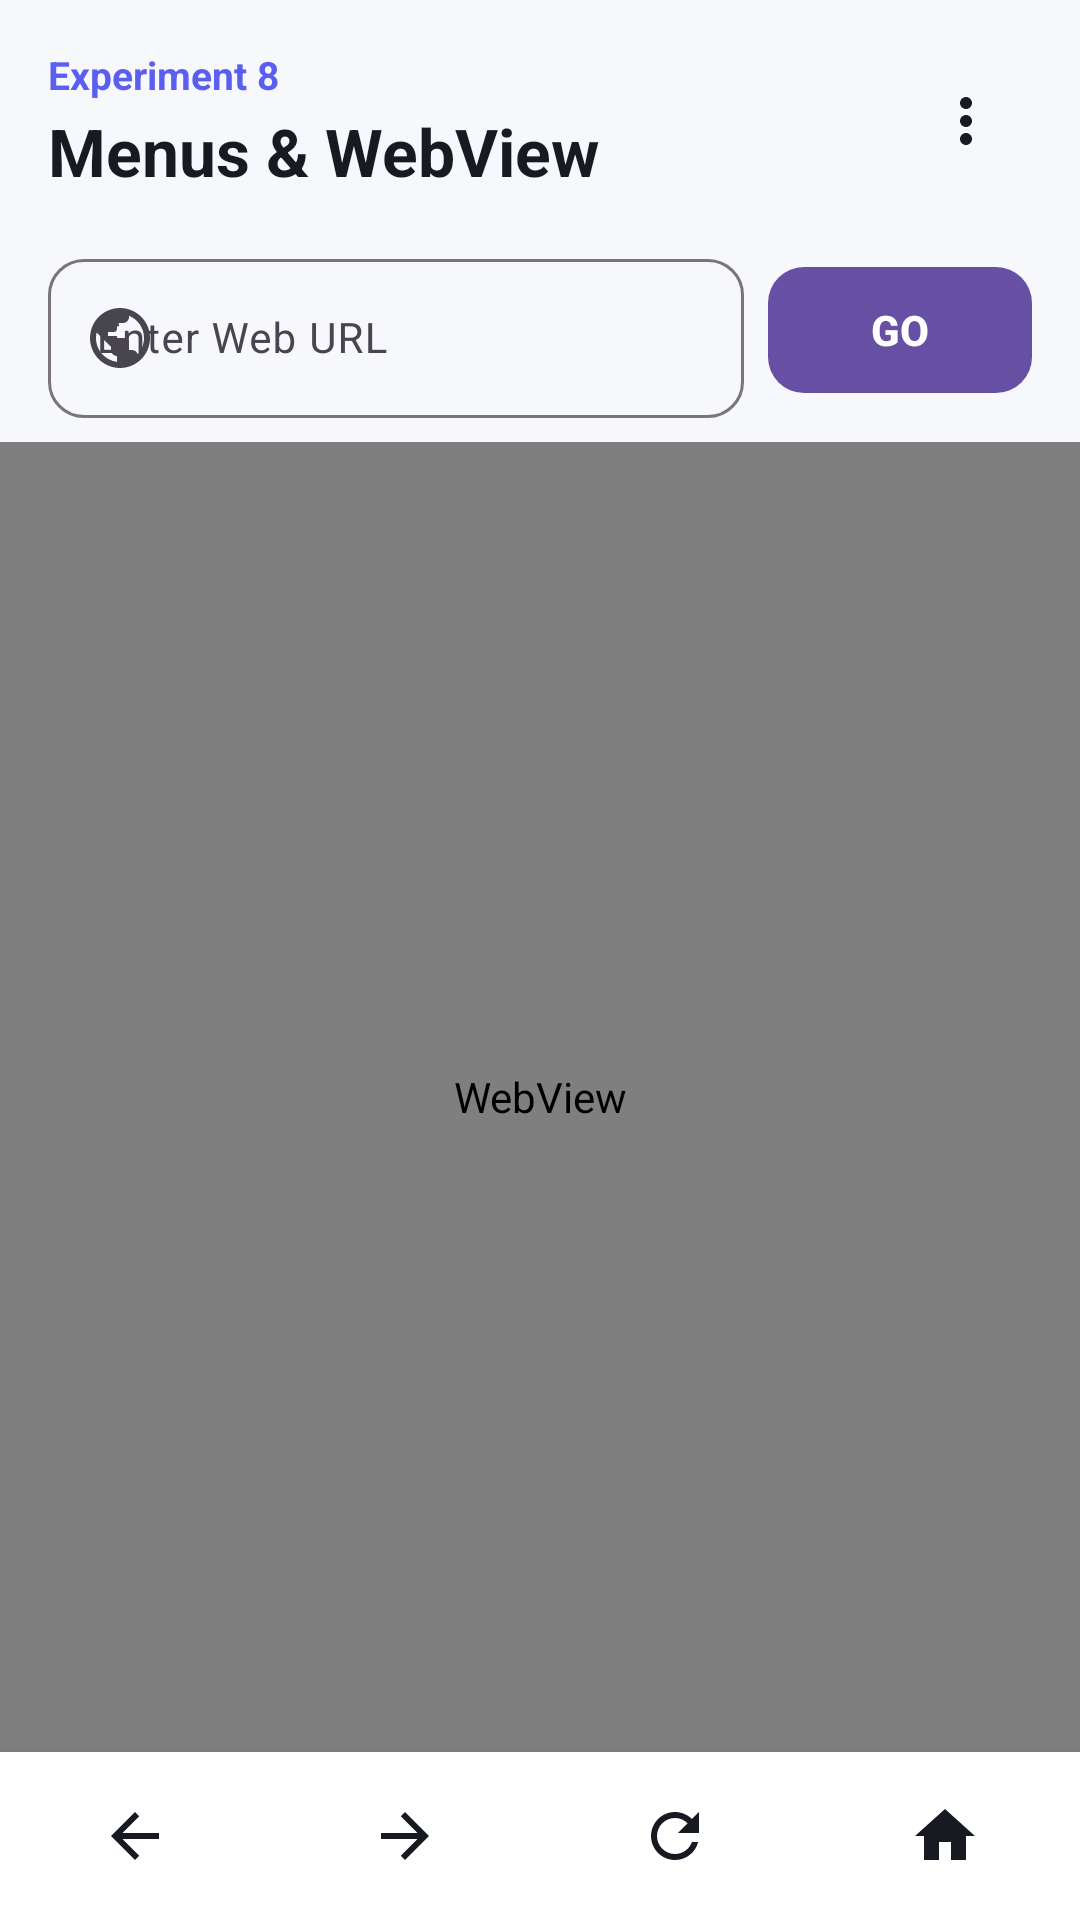

Icons on this 1080 x 1920 Android screen, each with its box as (x1, y1, x2, y2):
arrow back: (111, 1812, 159, 1860)
arrow forward: (381, 1812, 429, 1860)
home: (915, 1809, 975, 1860)
more: (960, 97, 972, 145)
refresh: (651, 1812, 699, 1860)
